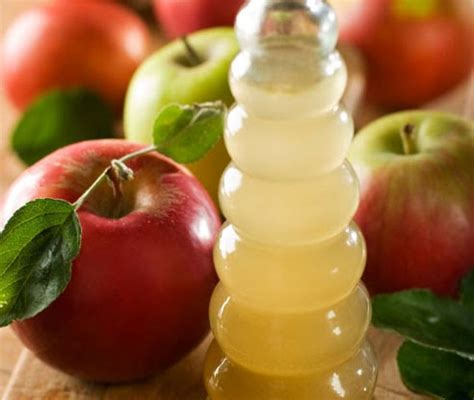apple: (1, 130, 223, 389), (346, 109, 474, 302), (122, 24, 244, 174)
